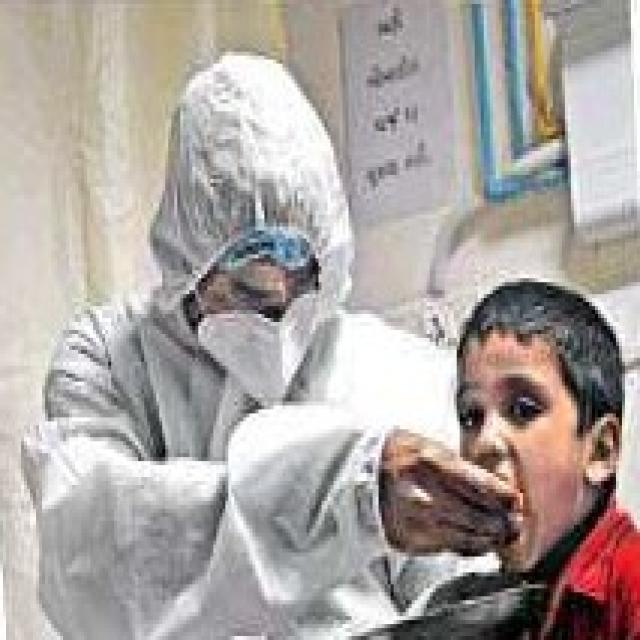Coverall: (18, 59, 471, 640)
Mask: (192, 278, 334, 418)
